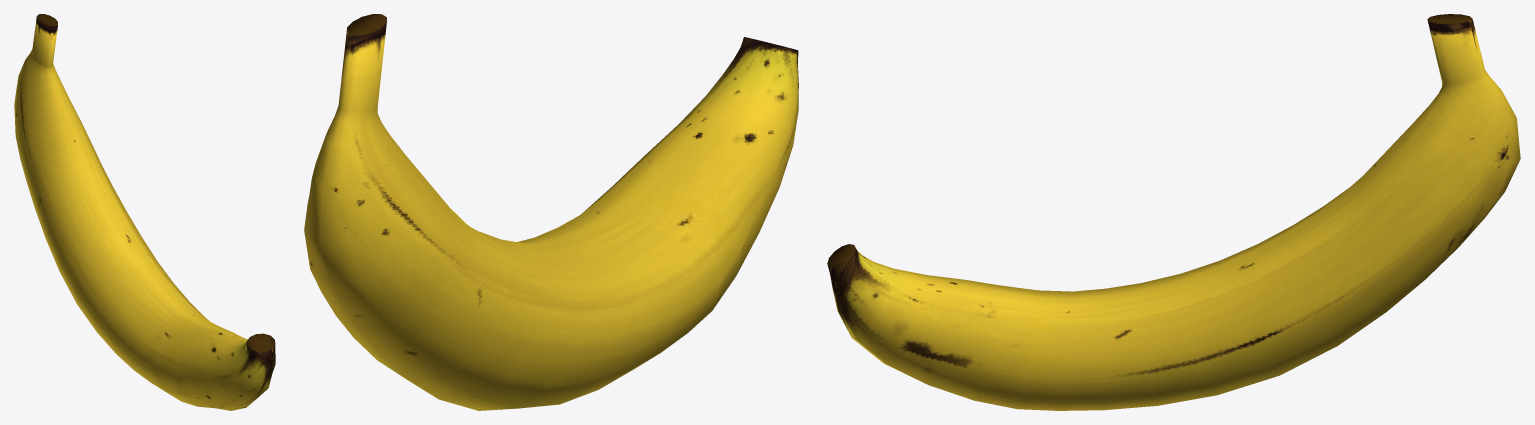
The model's file is Banana.fbx.
3 renders of one model, left to right at view 1: azimuth 30°, elevation 25°; view 2: azimuth 150°, elevation 25°; view 3: azimuth 270°, elevation 25°, orthographic. The views are drawn at different scales.
Visible parts, largest first — view 1: Banana; view 2: Banana; view 3: Banana.
Part boxes in pixels (box(x1,y1,x2,y2)): Banana: box(14, 14, 275, 410); Banana: box(304, 14, 798, 410); Banana: box(827, 14, 1520, 410).
Bounding box in the file's own units: 17.68 × 56.81 × 92.45.
